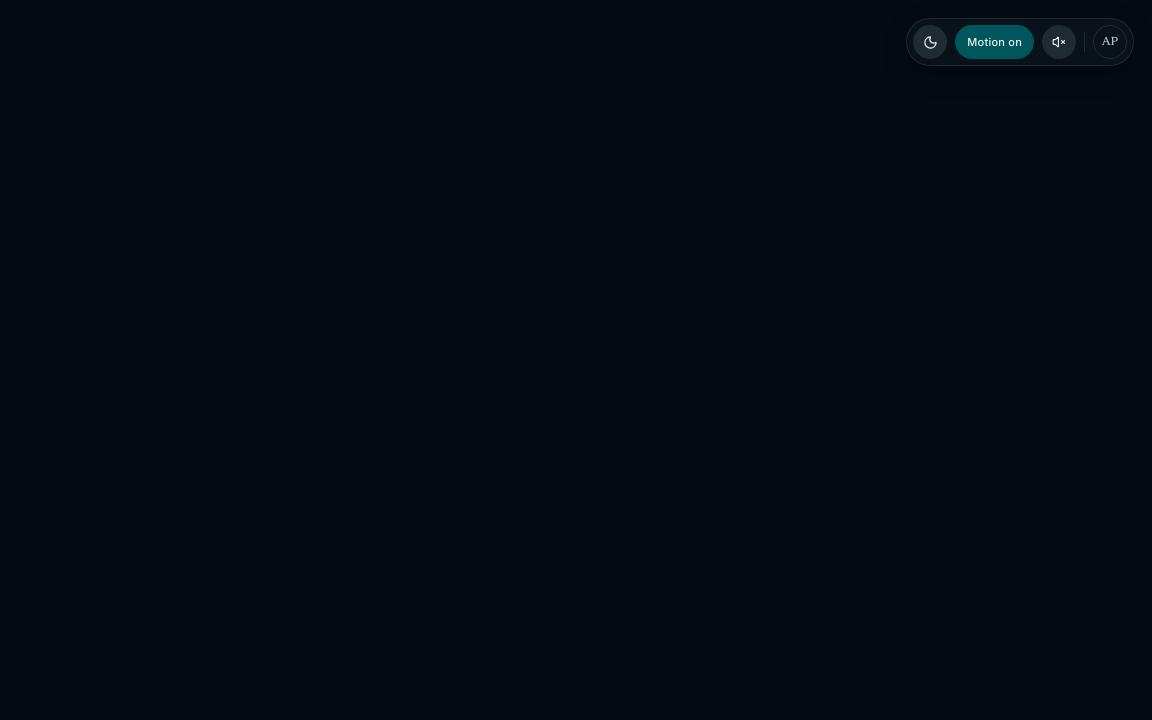
ControlWidget › opens the admin modal and closes it on Escape
The width and height of the screenshot is (1152, 720).
Step 1. Click the button with test id "admin-button" → (1110, 42), box [1093,25,1127,59]
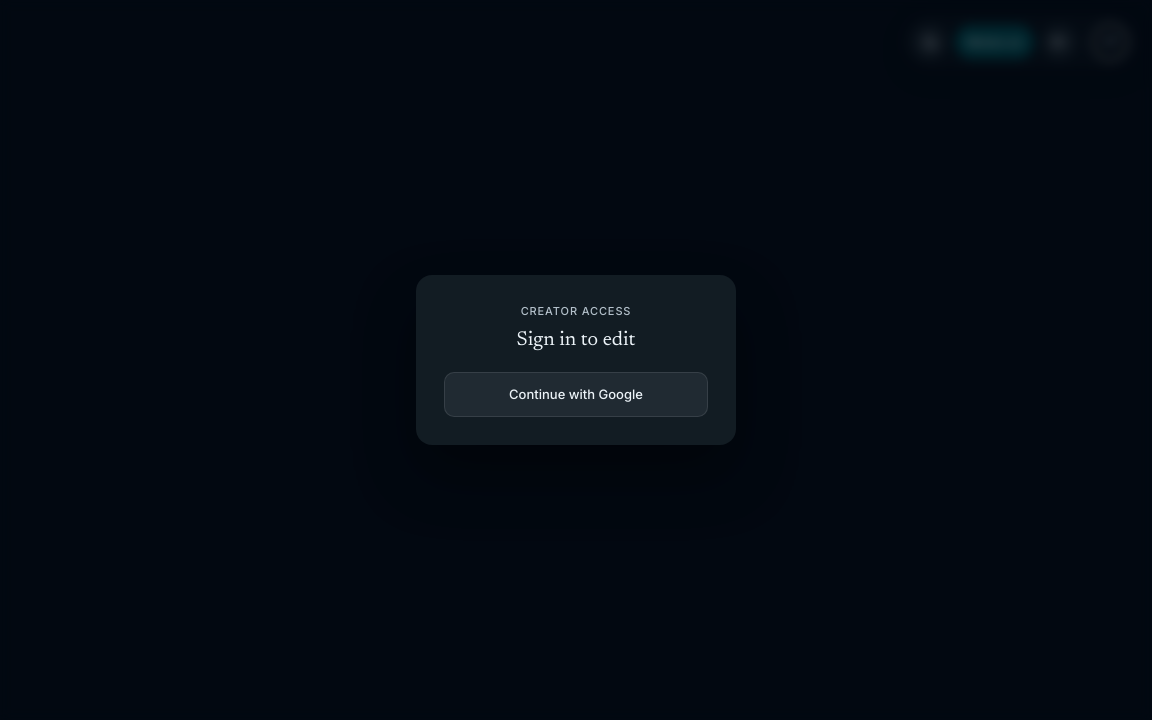
Expected: the dialog with test id "admin-modal" is shown
Step 2. Press Escape
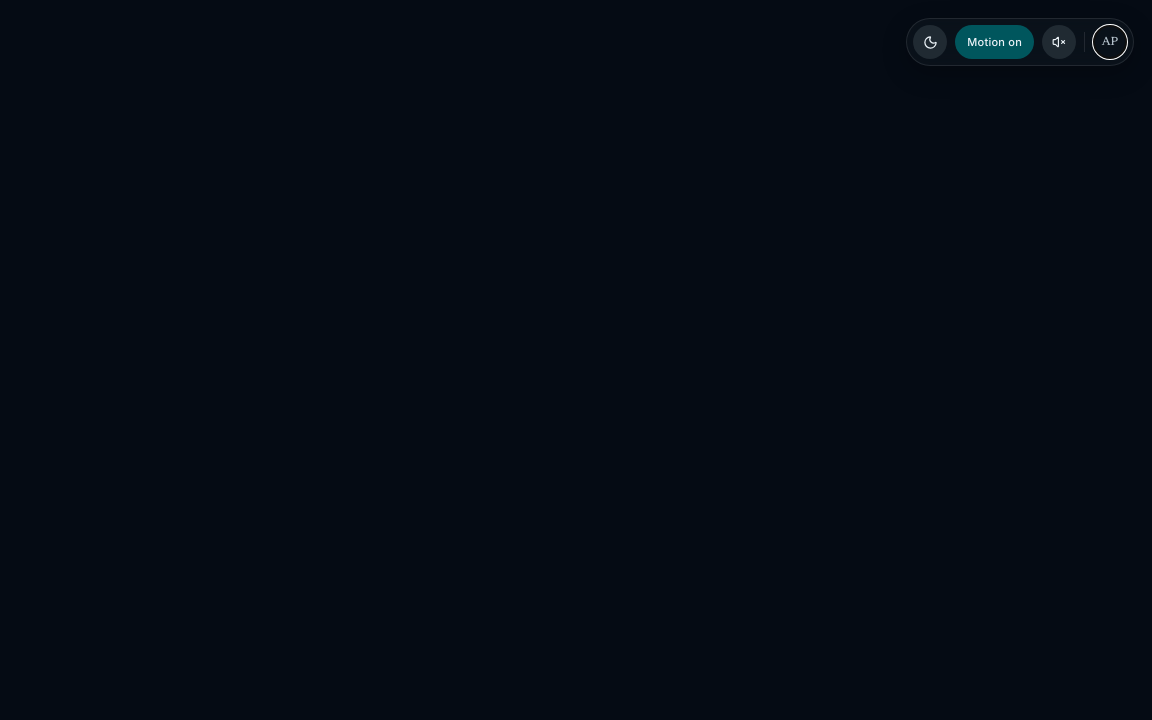
Expected: the dialog with test id "admin-modal" is gone
